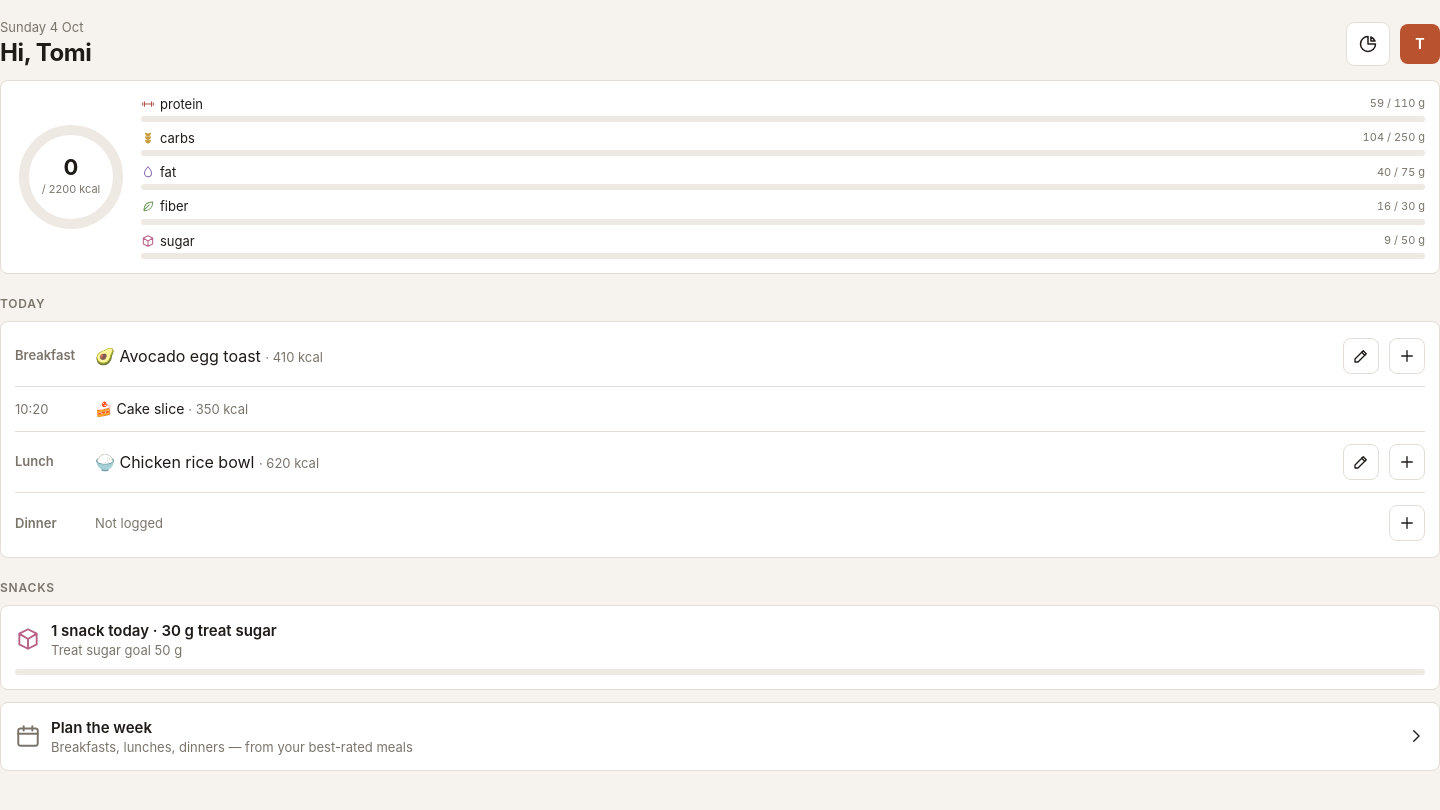
Test case: HomePage › lists snacks between the meals by time and edits a meal entry
Check: the text "🍰 Cake slice · 350 kcal" is shown, box [95, 400, 248, 417]
Click the button named "Change Chicken rice bowl": click(1361, 462) [1343, 444, 1379, 480]
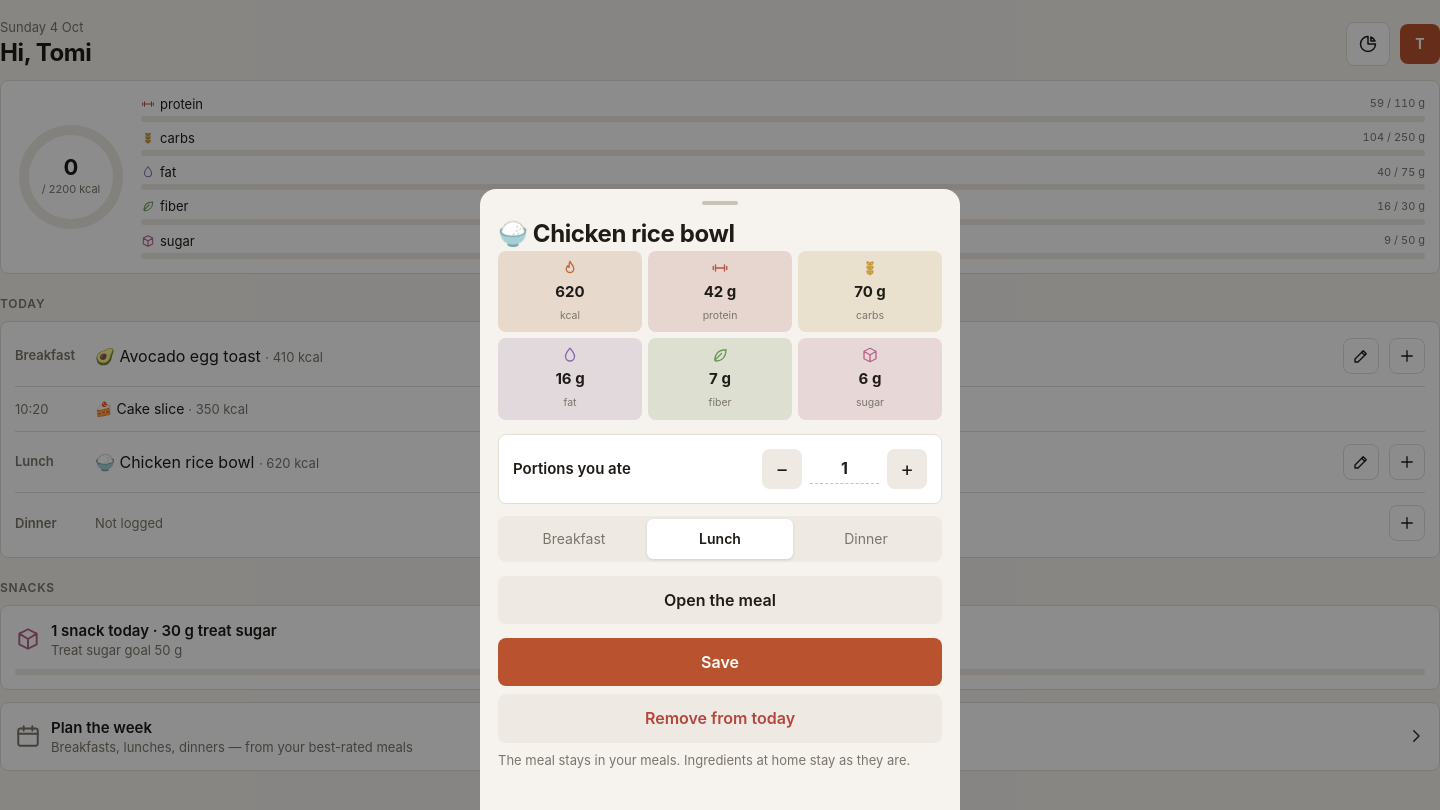
Click the button named "Less portions eaten": click(782, 469) [762, 449, 802, 489]
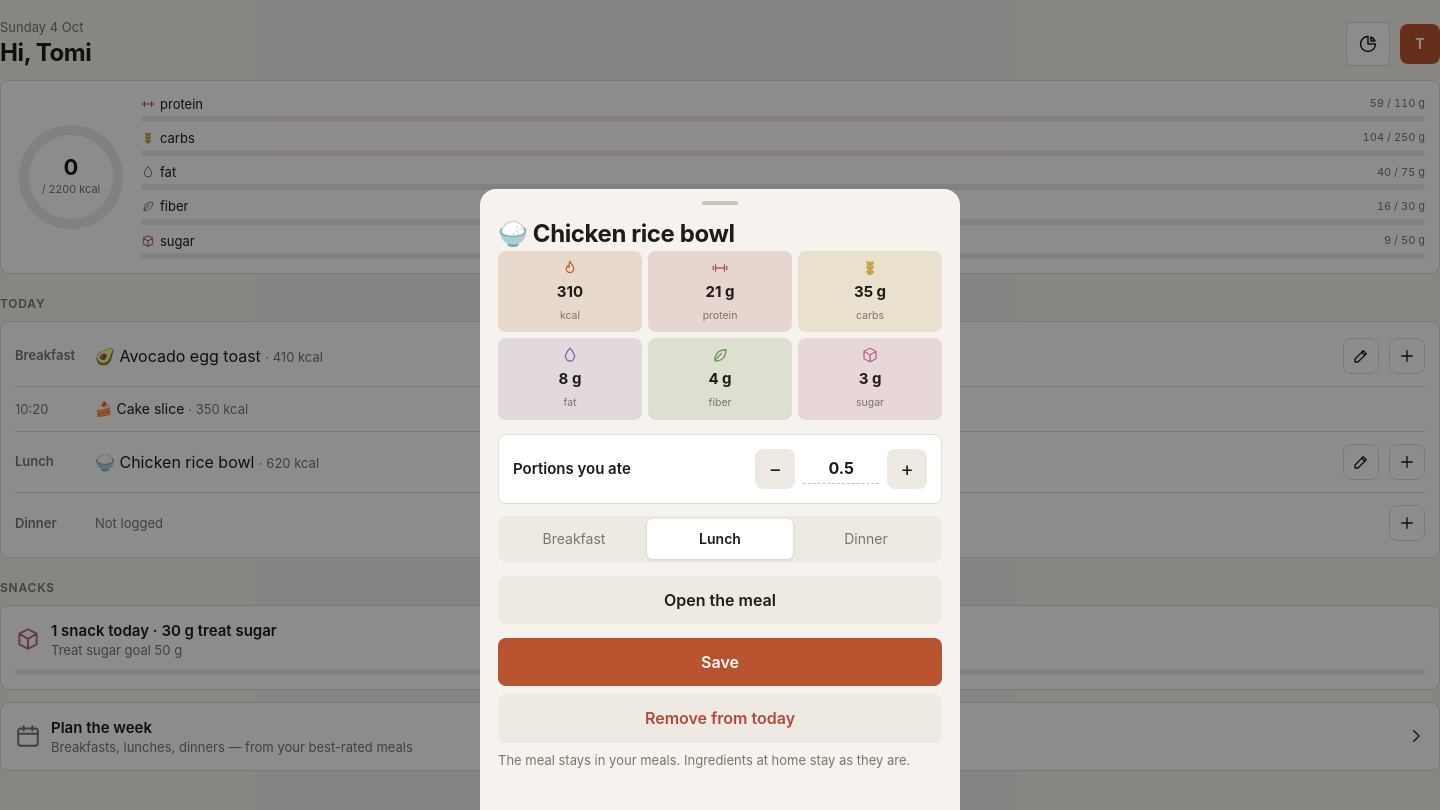
Check: the text with test id "macro-kcal" reads "310", box [557, 282, 583, 301]
Click the button "Dinner": click(866, 539) [793, 519, 939, 559]
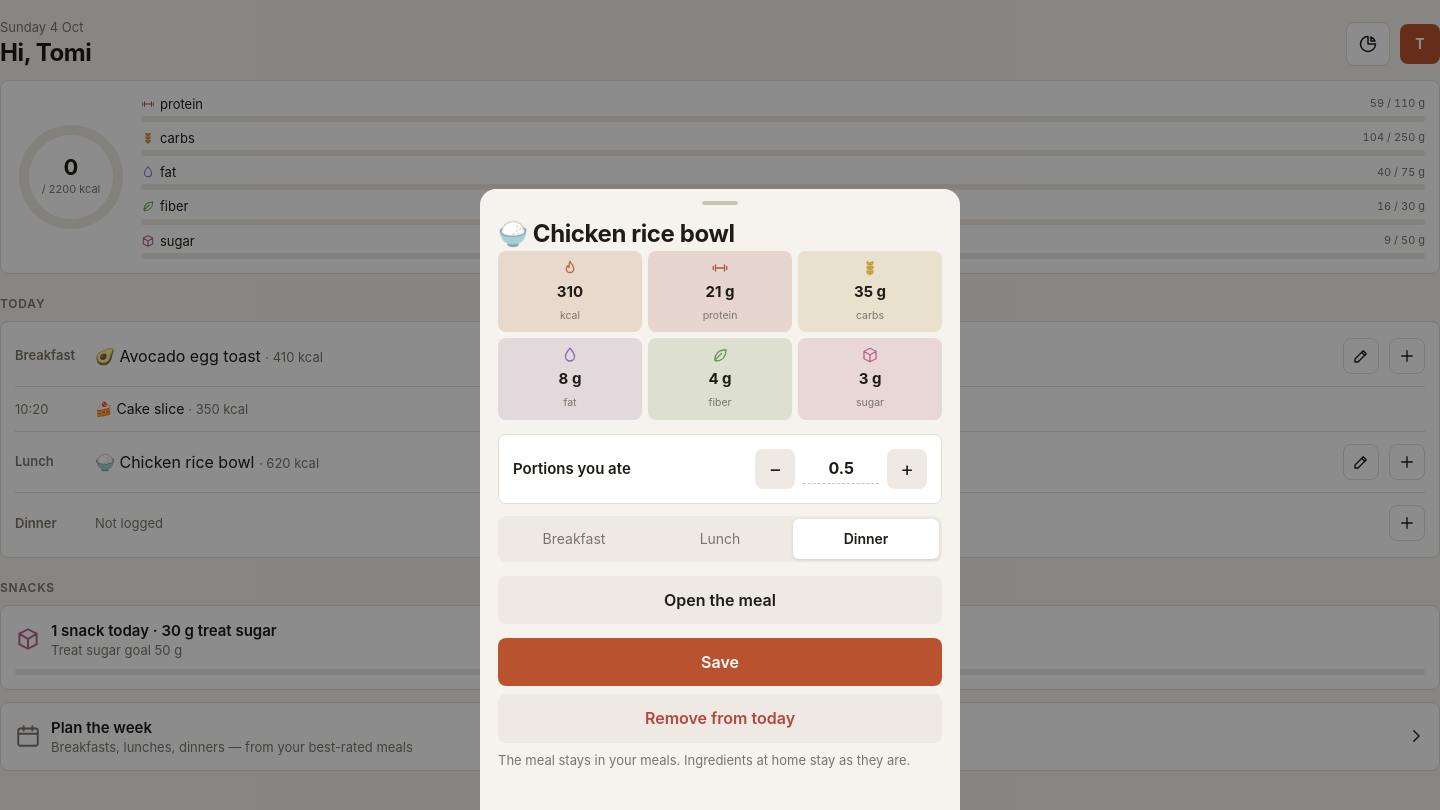
Click the button "Save": click(720, 662) [498, 638, 942, 686]
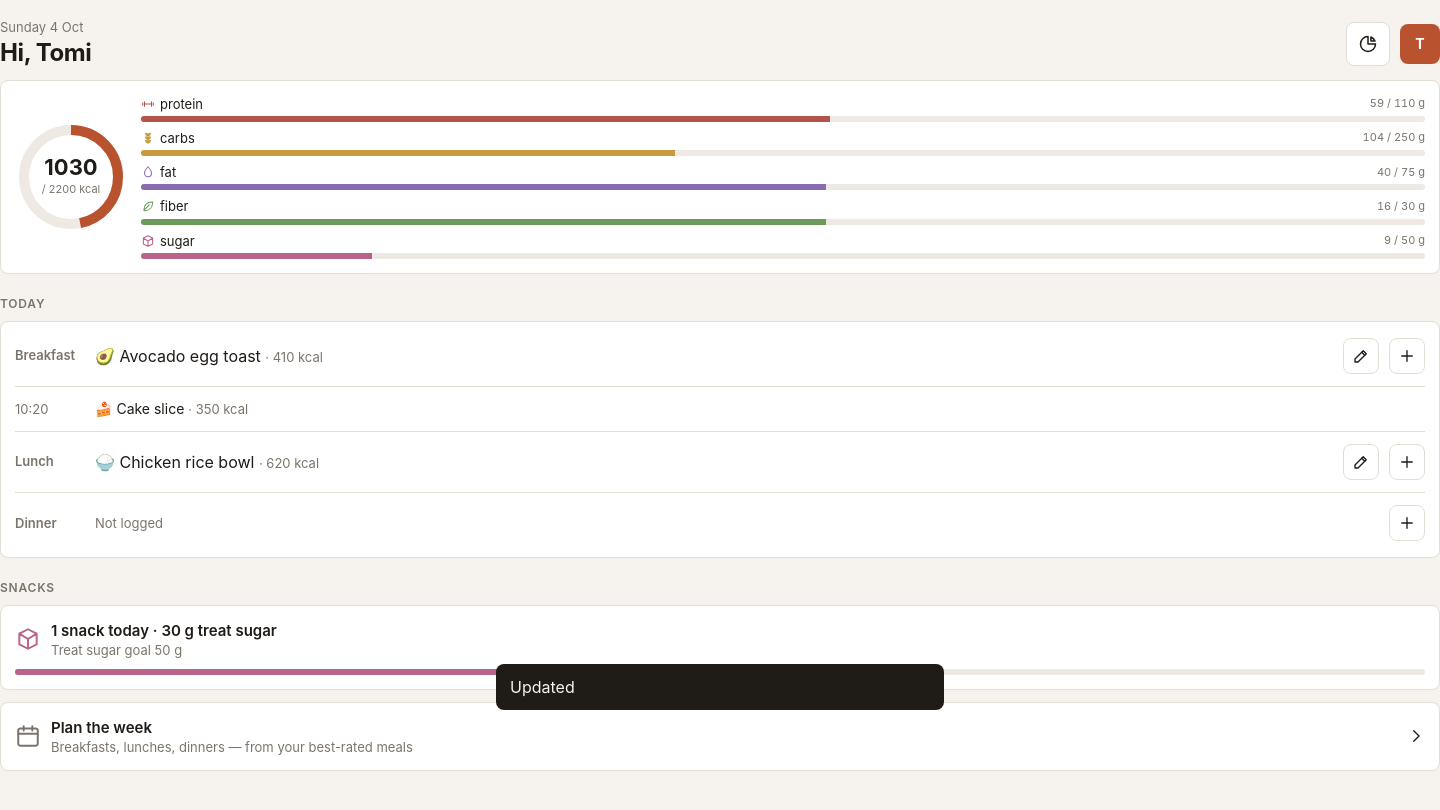
Check: the text "Updated" is shown, box [510, 677, 575, 697]
